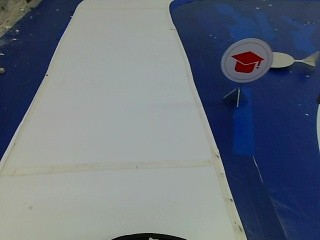school: (219, 35, 271, 83)
